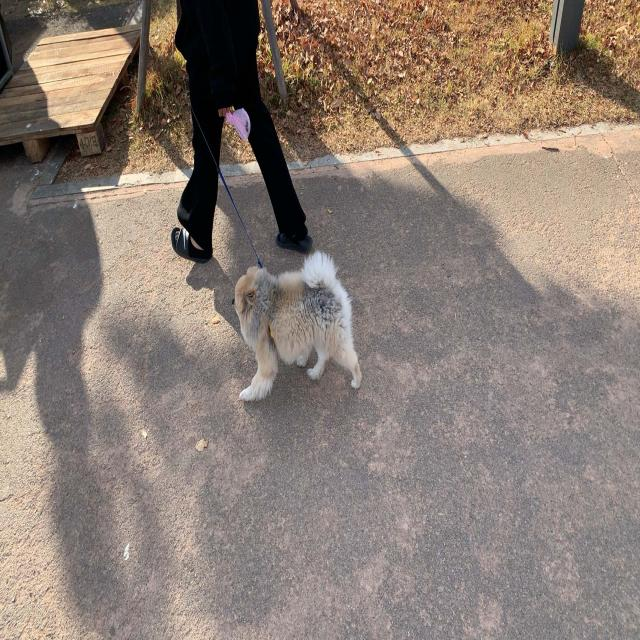Leashed_Dog: (195, 119, 363, 404)
